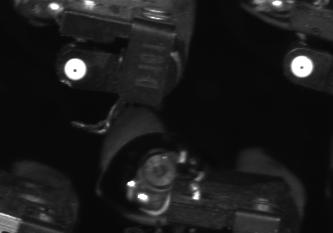fiber: (287, 51, 318, 84), (60, 54, 92, 84)
